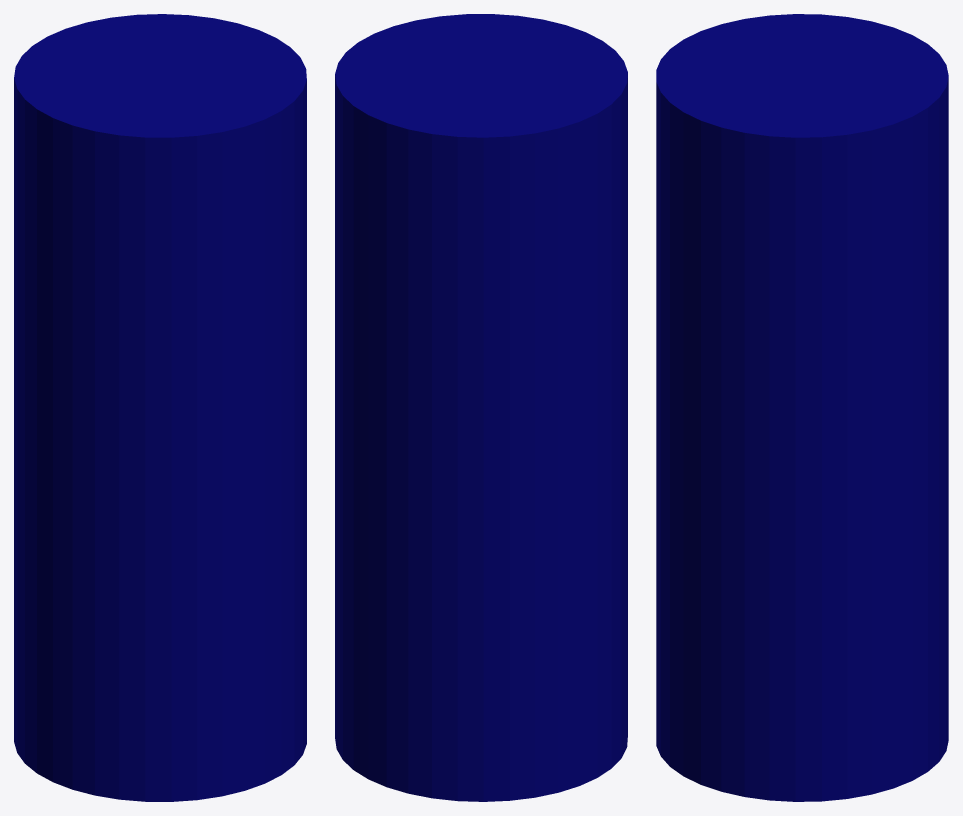
File: big_pipe.obj
3 views of the same model, side by side, from view 1: azimuth 30°, elevation 25°; view 2: azimuth 150°, elevation 25°; view 3: azimuth 270°, elevation 25° (orthographic).
Parts seen in each view (by area): view 1: Cylinder; view 2: Cylinder; view 3: Cylinder.
Boxes of the visible parts, left/top/right/bottom form: Cylinder: left=14, top=14, right=306, bottom=801; Cylinder: left=335, top=14, right=627, bottom=801; Cylinder: left=656, top=14, right=948, bottom=801.
Bounding box in the file's own units: 0.999 × 2.5 × 0.998.
